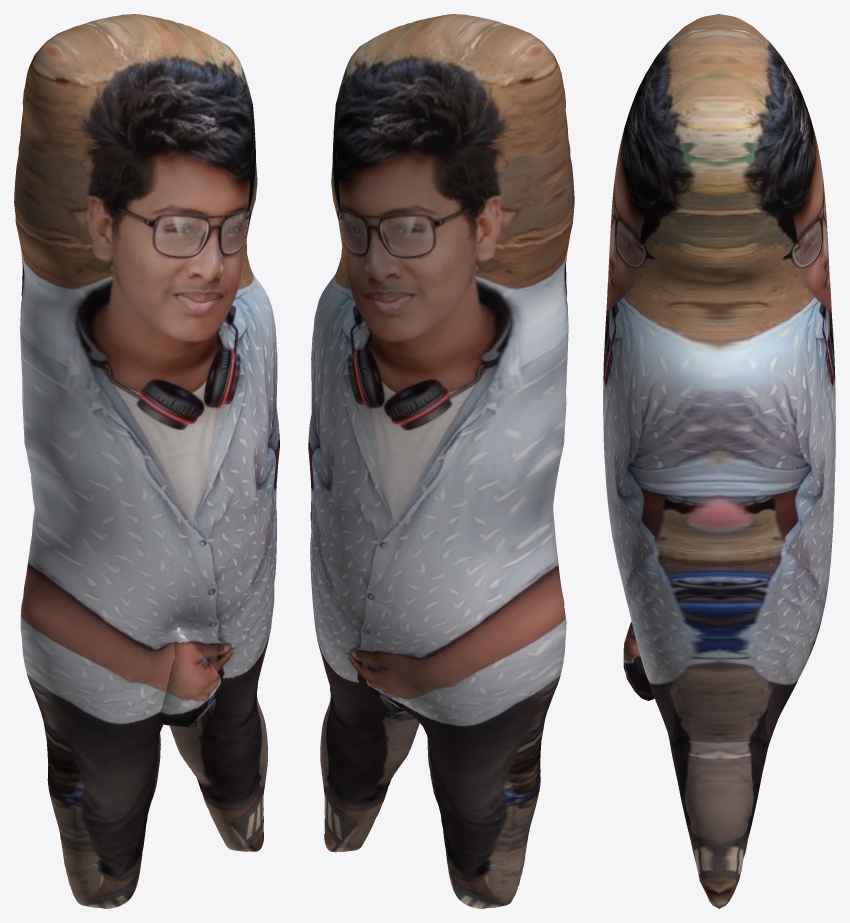
The model's file is mm_project.glb.
3 renders of one model, left to right at view 1: azimuth 30°, elevation 25°; view 2: azimuth 150°, elevation 25°; view 3: azimuth 270°, elevation 25°, orthographic. The views are drawn at different scales.
Bounding box in the file's own units: 2.26 × 7.95 × 2.02.
1 material, 1 textured.
